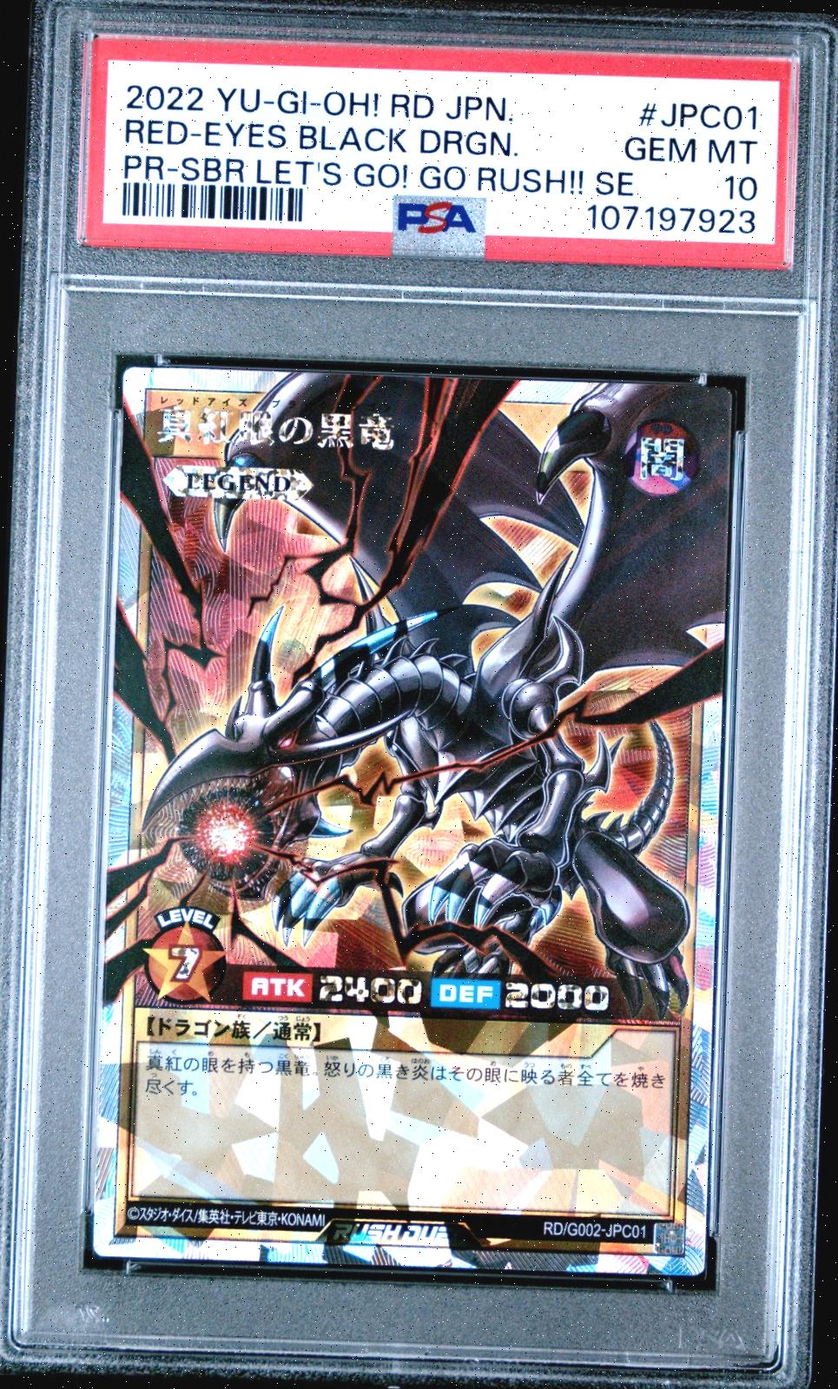card-2UtV: (90, 365, 732, 1278)
